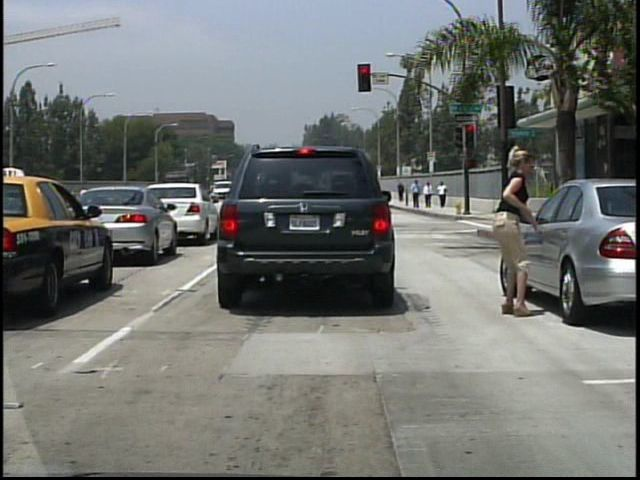person: (497, 139, 557, 318), (438, 180, 450, 208), (413, 178, 423, 208), (424, 181, 434, 209), (398, 181, 407, 203)
